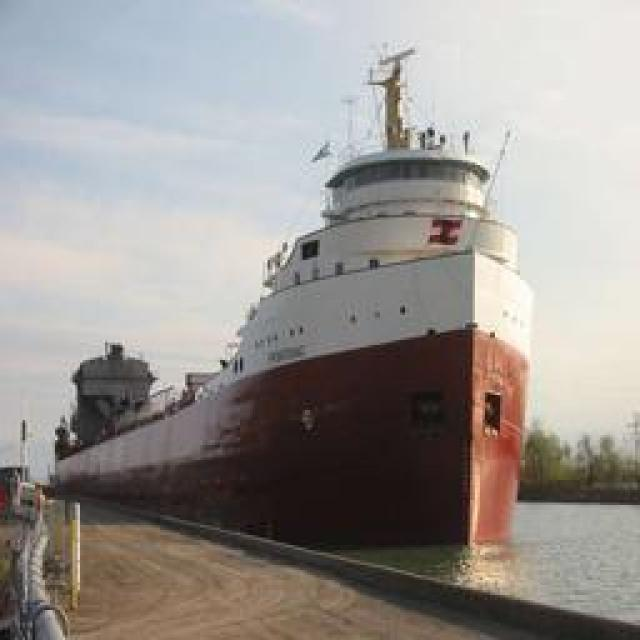CIV_Ship: (75, 128, 538, 546)
